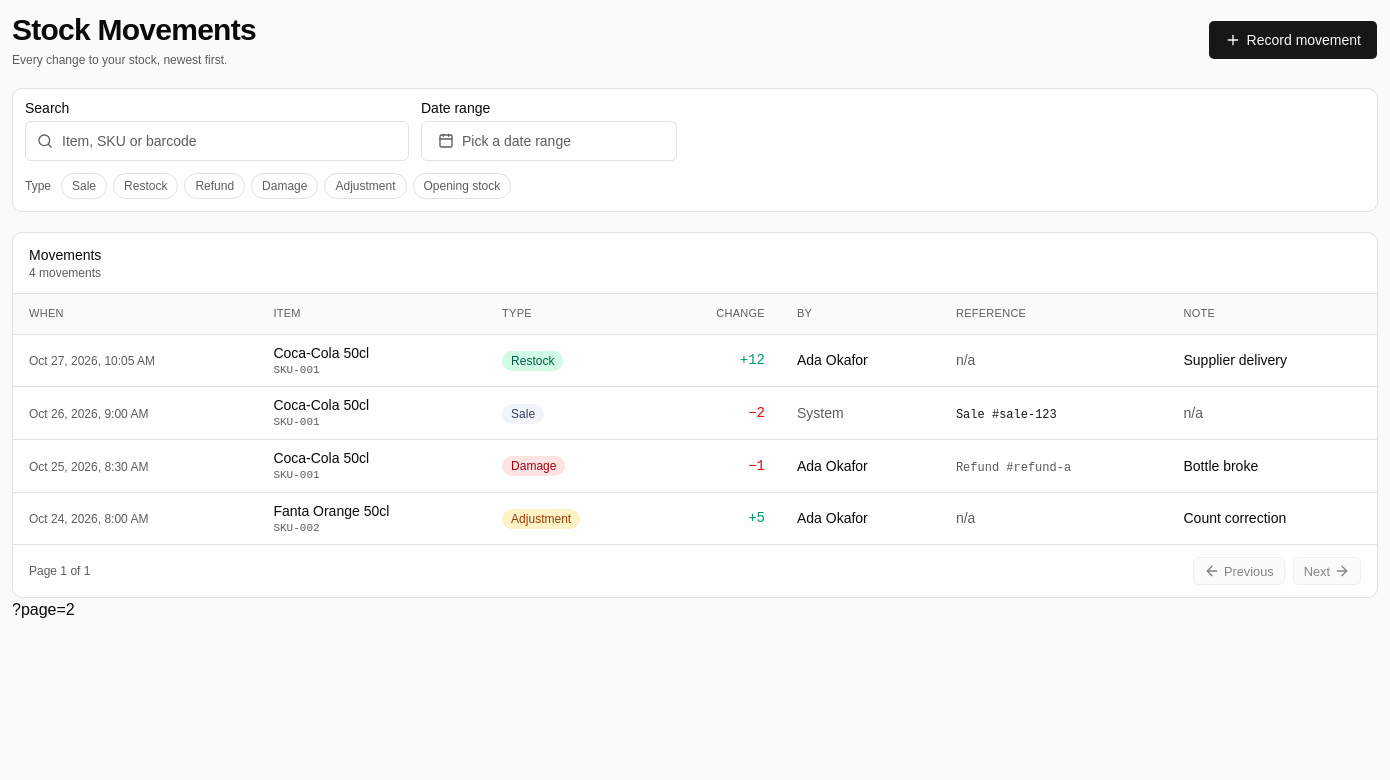
StockMovementPage › debounces search into the URL and drops the page param
Expected: the text "4 movements" is shown, x1=29 y1=265 x2=101 y2=281
Type "cola" into the field labelled "Search".
click(217, 141); type("cola")  # box x1=25 y1=121 x2=409 y2=161
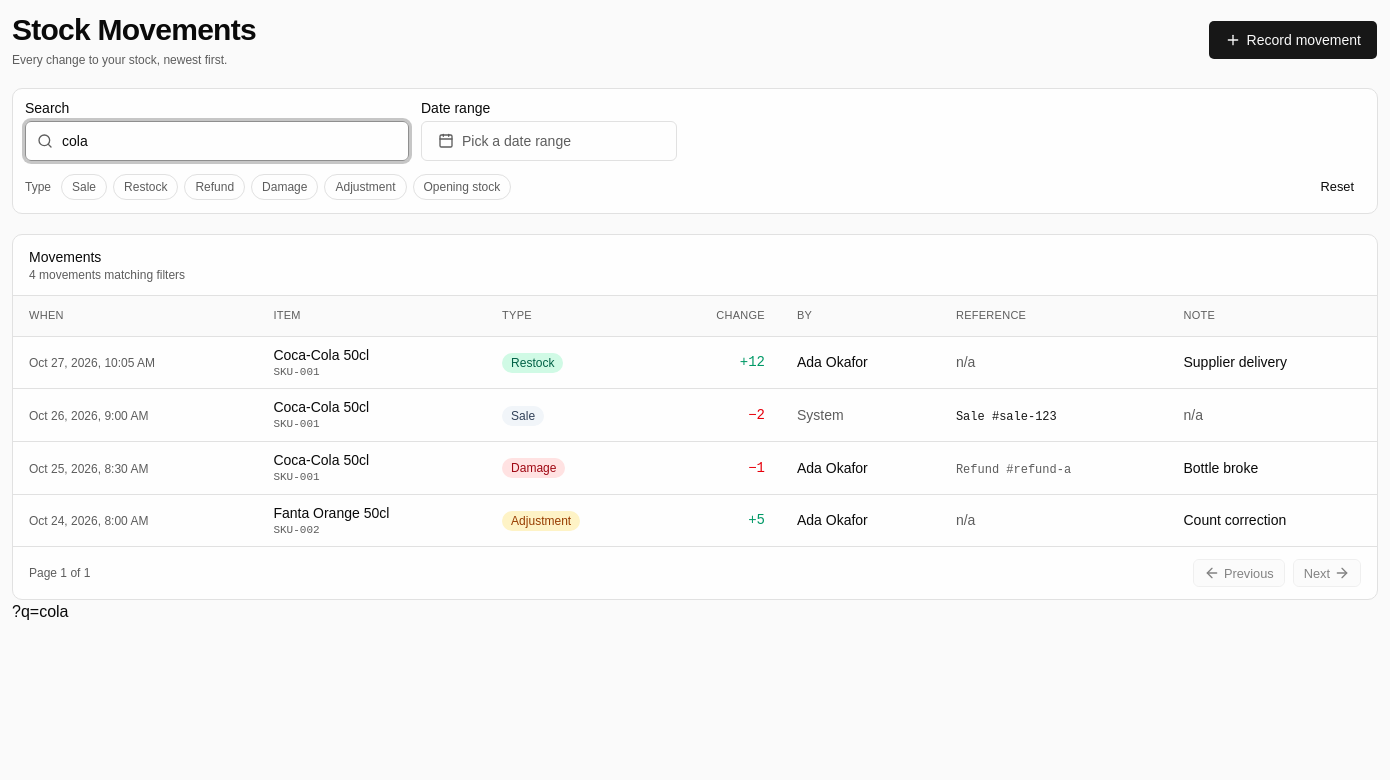
Result: the text with test id "location-search" shows "q=cola" at x1=12 y1=603 x2=68 y2=620
Result: the text with test id "location-search" no longer shows "page="
